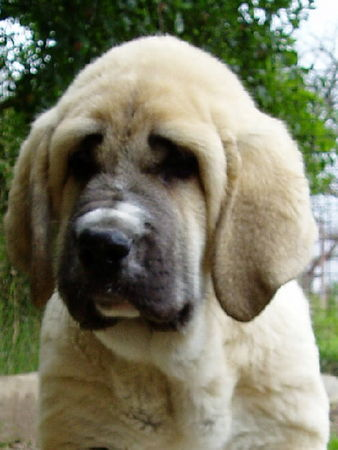mastin_espanol: (4, 35, 330, 450)
